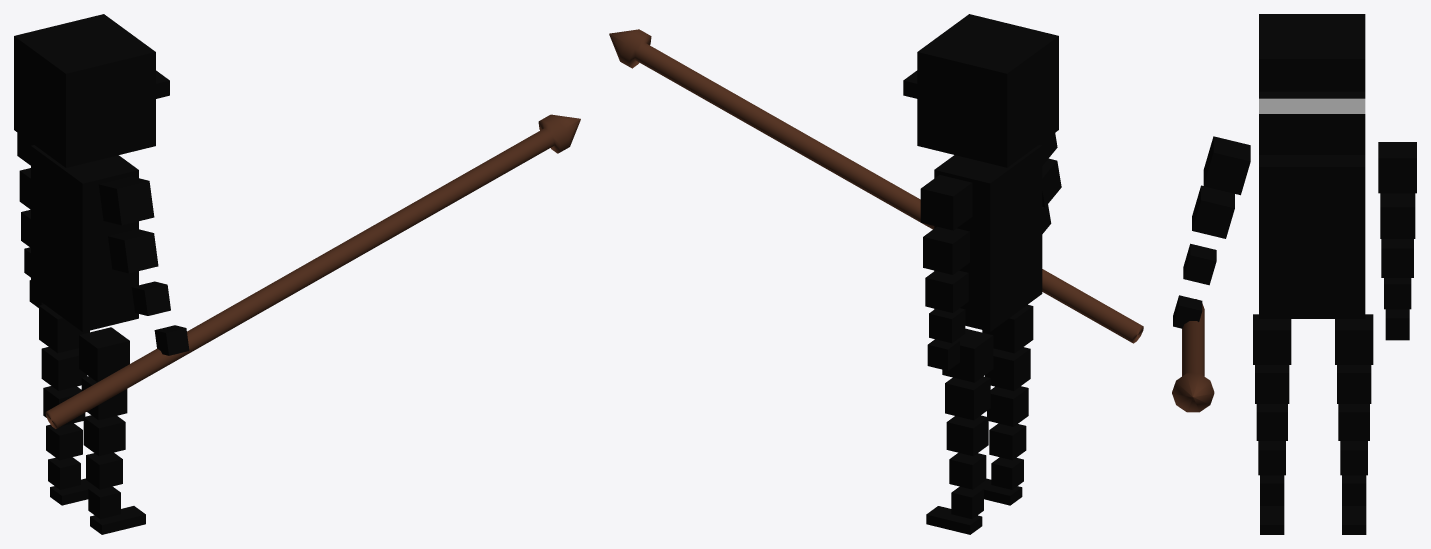
The model's file is knight2.fbx.
The picture shows the model from 3 angles, left to right: view 1: azimuth 30°, elevation 25°; view 2: azimuth 150°, elevation 25°; view 3: azimuth 270°, elevation 25°; orthographic projection. The views are drawn at different scales.
Parts seen in each view (by area): view 1: Cube.027, Cube.005, Cylinder.002, Cube.010, Cube.014, Cube.011, Cube.021, Cube.016, Cube.020, Cube.017, Cube.023, Cube.012 (+7 smaller); view 2: Cube.027, Cube.005, Cylinder.002, Cube.006, Cube.007, Cube.020, Cube.021, Cube.026, Cube.015, Cube.022, Cube.014, Cube.016 (+9 smaller); view 3: Cube.005, Cube.027, Cylinder.002, Cube.010, Cube.006, Cube.020, Cube.014, Cube.011, Cube.007, Cube.015, Cube.021, Cube.026 (+12 smaller).
Part boxes in pixels (x1,y1,x2,y2): Cube.027: (14, 14, 169, 167); Cube.005: (31, 145, 138, 331); Cylinder.002: (45, 114, 580, 428); Cube.010: (98, 176, 154, 225); Cube.014: (79, 327, 129, 382); Cube.011: (108, 229, 158, 273); Cube.021: (41, 347, 87, 390); Cube.016: (83, 415, 125, 455); Cube.020: (39, 304, 89, 353); Cube.017: (86, 452, 122, 489); Cube.023: (46, 423, 82, 460); Cube.012: (131, 281, 170, 315); Cube.027: (903, 14, 1058, 167); Cube.005: (934, 145, 1042, 331); Cylinder.002: (609, 29, 1143, 343); Cube.006: (920, 175, 972, 230); Cube.007: (923, 226, 969, 274); Cube.020: (942, 328, 993, 382); Cube.021: (945, 376, 990, 420); Cube.026: (925, 270, 968, 312); Cube.015: (985, 347, 1030, 390); Cube.022: (946, 415, 988, 456); Cube.014: (982, 304, 1033, 353); Cube.016: (987, 386, 1028, 426); Cube.005: (1259, 155, 1365, 318); Cube.027: (1259, 14, 1365, 154); Cylinder.002: (1172, 299, 1214, 412); Cube.010: (1203, 136, 1250, 195); Cube.006: (1378, 142, 1416, 193); Cube.020: (1335, 314, 1373, 364); Cube.014: (1253, 314, 1291, 364); Cube.011: (1192, 185, 1234, 238); Cube.007: (1380, 193, 1415, 238); Cube.015: (1255, 365, 1289, 403); Cube.021: (1337, 365, 1371, 403); Cube.026: (1381, 239, 1413, 277).
Bounding box in the file's own units: 1182 × 999 × 461.
